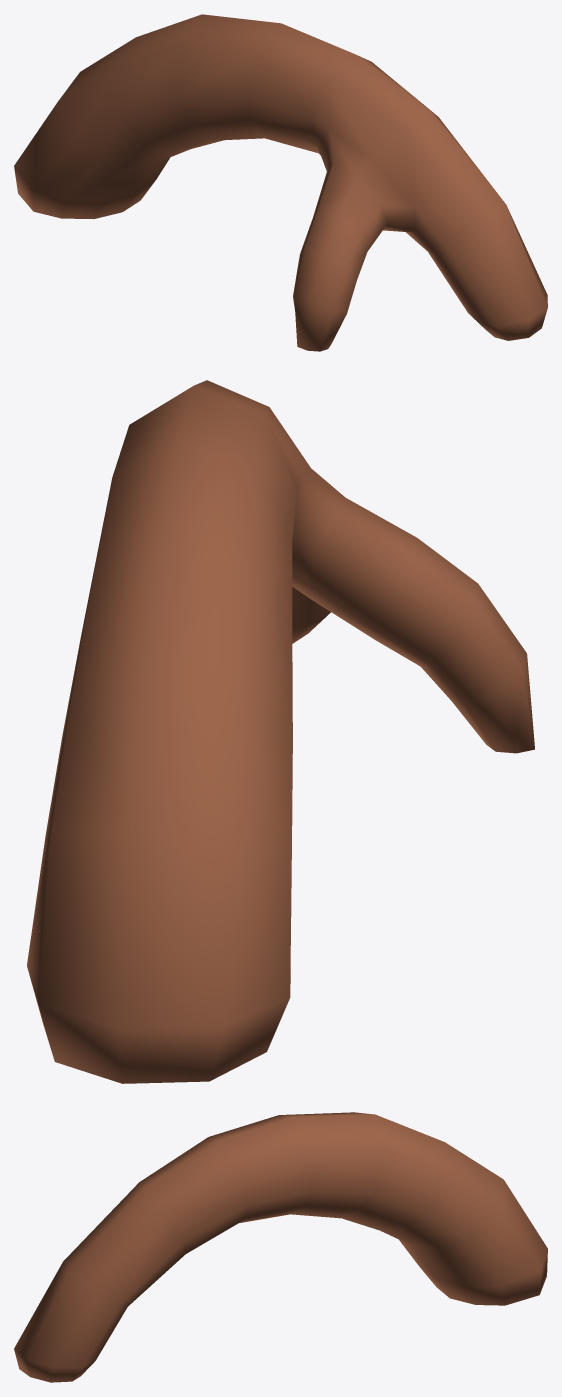
3 renders of one model, top to bottom at view 1: azimuth 30°, elevation 25°; view 2: azimuth 150°, elevation 25°; view 3: azimuth 270°, elevation 25°, orthographic. The views are drawn at different scales.
Parts seen in each view (by area): view 1: Root_02_LOD2_Cylinder.602; view 2: Root_02_LOD2_Cylinder.602; view 3: Root_02_LOD2_Cylinder.602.
Part boxes in pixels (bbox=[...]): Root_02_LOD2_Cylinder.602: bbox=[14, 14, 547, 351]; Root_02_LOD2_Cylinder.602: bbox=[27, 380, 534, 1083]; Root_02_LOD2_Cylinder.602: bbox=[14, 1112, 547, 1382].
Bounding box in the file's own units: 3.29 × 2.49 × 5.75.
Materials: 1 (1 with a texture image).
